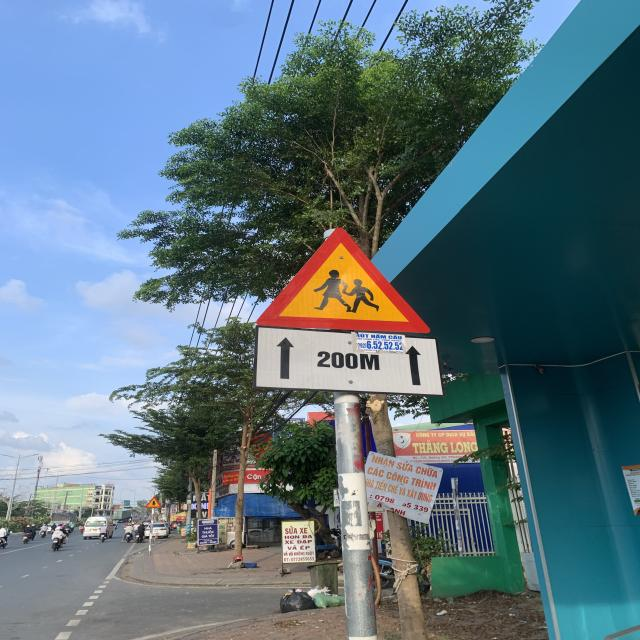Vong_Xuyen: (258, 228, 428, 336)
